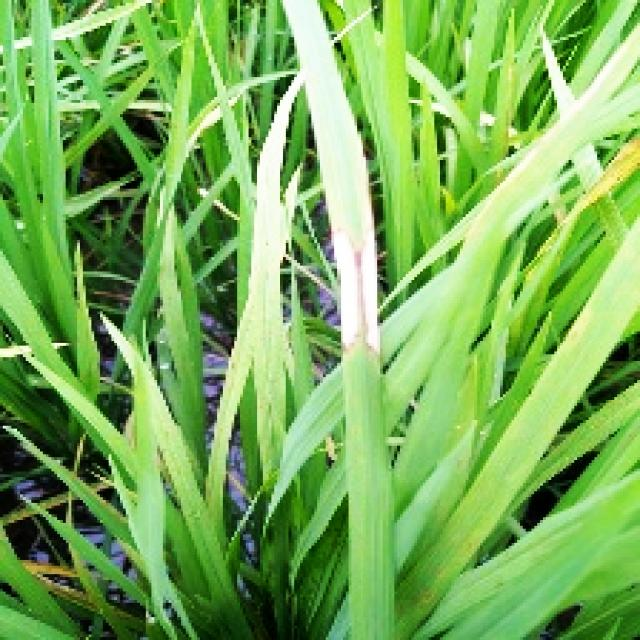unhealth: (310, 132, 389, 398)
